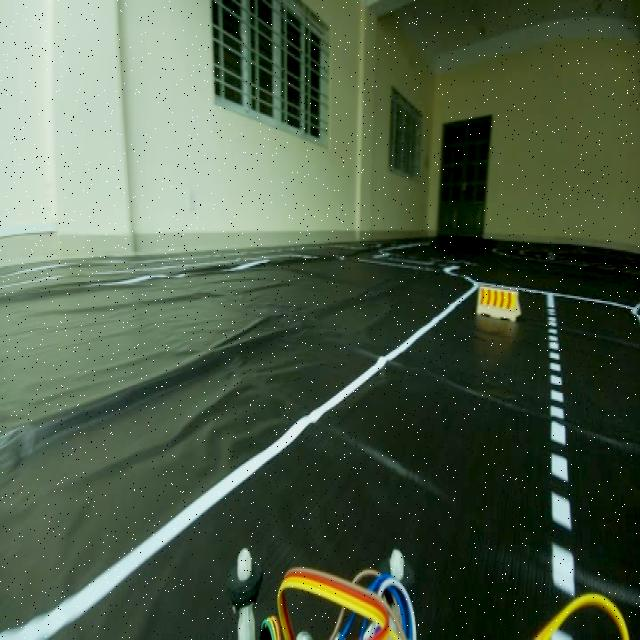roadblock: (469, 272, 526, 327)
